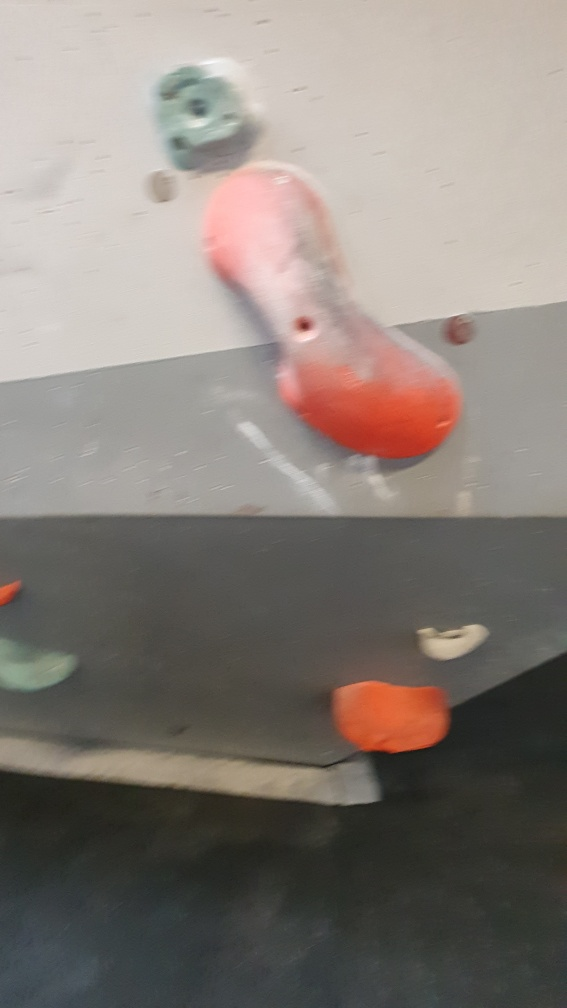Pinch: (206, 158, 463, 467)
